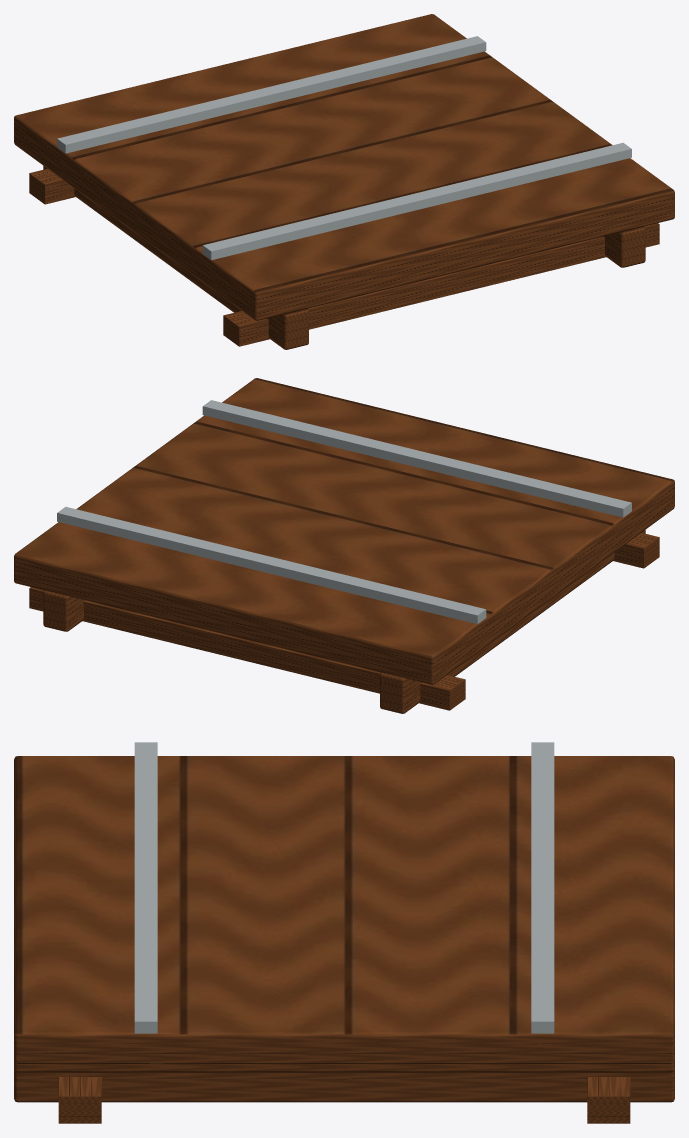
File: modular-survival-base-builder-cross-joist-floor-833807c0__24144.glb
The picture shows the model from 3 angles, top to bottom: view 1: azimuth 30°, elevation 25°; view 2: azimuth 150°, elevation 25°; view 3: azimuth 270°, elevation 25°; orthographic projection. The views are drawn at different scales.
Parts seen in each view (by area): view 1: cross-joist-floor; view 2: cross-joist-floor; view 3: cross-joist-floor.
Boxes of the visible parts, <box> form: cross-joist-floor: <box>14,14,674,349</box>; cross-joist-floor: <box>14,378,674,713</box>; cross-joist-floor: <box>14,742,674,1123</box>.
Bounding box in the file's own units: 2 × 0.34 × 2.
2 materials, 1 textured.
